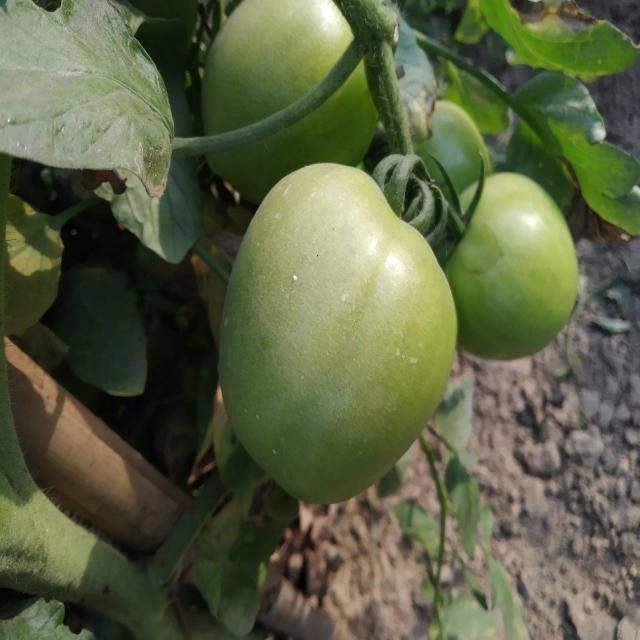Unripe: (218, 159, 457, 504), (446, 170, 577, 360)
